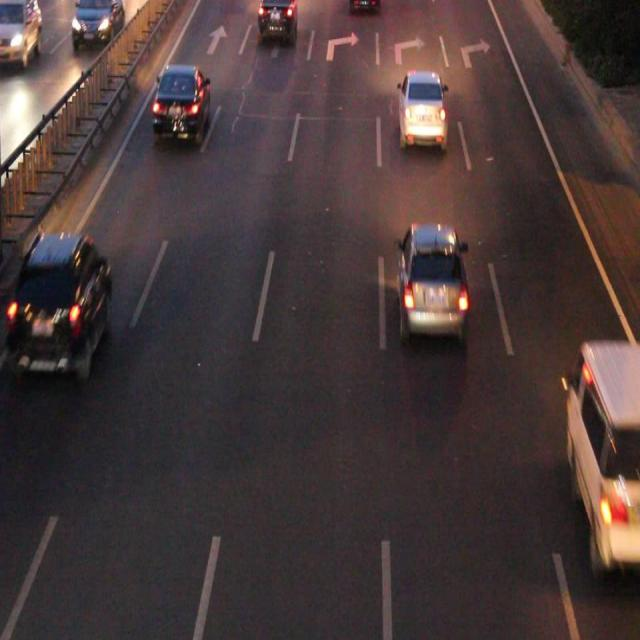car: (12, 234, 111, 368), (398, 227, 466, 332), (153, 67, 210, 136), (398, 73, 446, 146), (258, 1, 296, 38)
truck: (565, 342, 640, 566)
